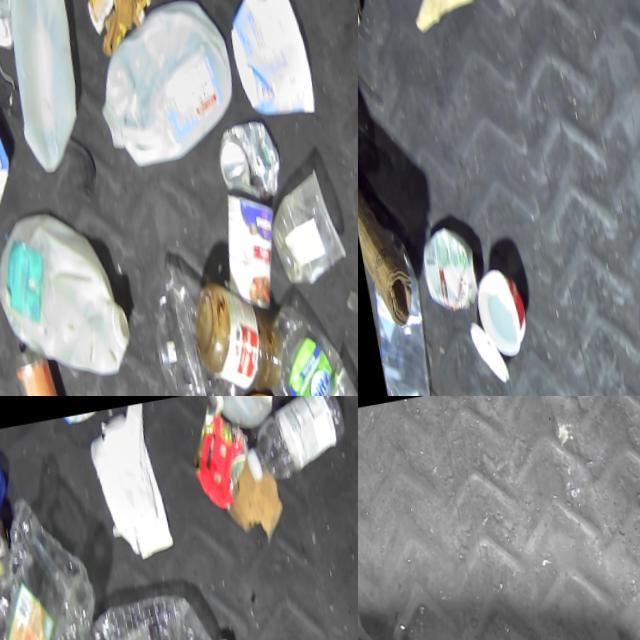can: (0, 201, 134, 392), (210, 188, 288, 319), (183, 400, 259, 515), (412, 217, 484, 319), (212, 120, 286, 208), (11, 348, 72, 396), (0, 519, 14, 584)
milk_jug: (84, 0, 244, 172), (0, 0, 95, 181), (206, 396, 288, 436)
plastic_bottle: (360, 231, 446, 396), (234, 396, 352, 486), (61, 585, 253, 640), (260, 297, 358, 396), (358, 0, 369, 144)
